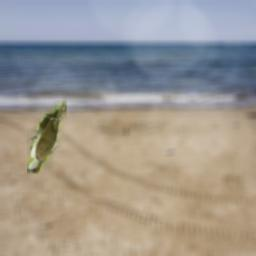Cuckoo: (27, 92, 67, 174)
